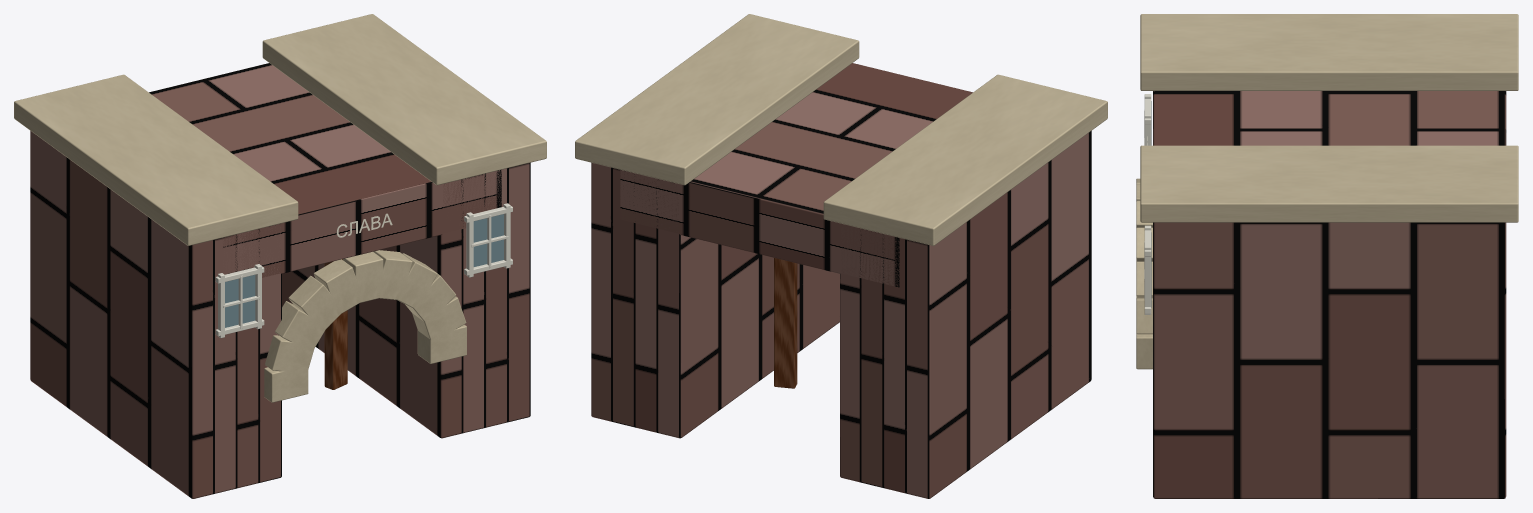
The model's file is Building_Brick_Gatehouse_01_Detailed.fbx.
3 renders of one model, left to right at view 1: azimuth 30°, elevation 25°; view 2: azimuth 150°, elevation 25°; view 3: azimuth 270°, elevation 25°, orthographic. The views are drawn at different scales.
Parts seen in each view (by area): view 1: Building_Brick_Gatehouse_01, Building_Brick_Gatehouse_01_Tower_-1, Building_Brick_Gatehouse_01_Top_Beam, Building_Brick_Gatehouse_01_Tower_Cap_-1, Building_Brick_Gatehouse_01_Gate_Right, Building_Brick_Gatehouse_01_Window_-1_Glass, Building_Brick_Gatehouse_01_Window_1_Glass; view 2: Building_Brick_Gatehouse_01, Building_Brick_Gatehouse_01_Tower_-1, Building_Brick_Gatehouse_01_Top_Beam, Building_Brick_Gatehouse_01_Tower_Cap_-1, Building_Brick_Gatehouse_01_Gate_Right; view 3: Building_Brick_Gatehouse_01, Building_Brick_Gatehouse_01_Tower_Cap_-1, Building_Brick_Gatehouse_01_Top_Beam, Building_Brick_Gatehouse_01_Window_1_Frame_V_2.125.
Part boxes in pixels (x1,y1,x2,y2): Building_Brick_Gatehouse_01: [262, 14, 546, 438]; Building_Brick_Gatehouse_01_Tower_-1: [30, 131, 281, 498]; Building_Brick_Gatehouse_01_Top_Beam: [149, 63, 501, 277]; Building_Brick_Gatehouse_01_Tower_Cap_-1: [14, 74, 298, 245]; Building_Brick_Gatehouse_01_Gate_Right: [324, 259, 347, 389]; Building_Brick_Gatehouse_01_Window_-1_Glass: [225, 275, 255, 327]; Building_Brick_Gatehouse_01_Window_1_Glass: [473, 214, 503, 266]; Building_Brick_Gatehouse_01: [575, 14, 859, 438]; Building_Brick_Gatehouse_01_Tower_-1: [840, 131, 1091, 498]; Building_Brick_Gatehouse_01_Top_Beam: [620, 63, 972, 287]; Building_Brick_Gatehouse_01_Tower_Cap_-1: [823, 74, 1107, 245]; Building_Brick_Gatehouse_01_Gate_Right: [774, 258, 797, 388]; Building_Brick_Gatehouse_01: [1136, 145, 1518, 498]; Building_Brick_Gatehouse_01_Tower_Cap_-1: [1140, 14, 1518, 90]; Building_Brick_Gatehouse_01_Top_Beam: [1153, 91, 1506, 145]; Building_Brick_Gatehouse_01_Window_1_Frame_V_2.125: [1144, 245, 1151, 314].
Bounding box in the file's own units: 535 × 396 × 455.
Materials: 6 (3 with a texture image).
